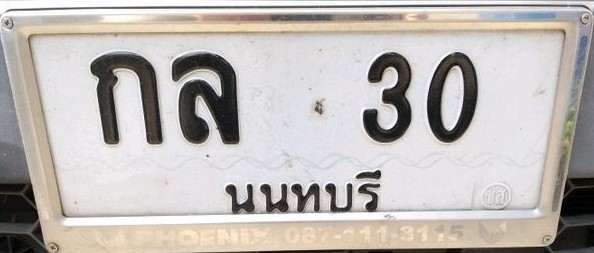txt01: (86, 47, 165, 147)
txt31: (167, 48, 244, 148)
